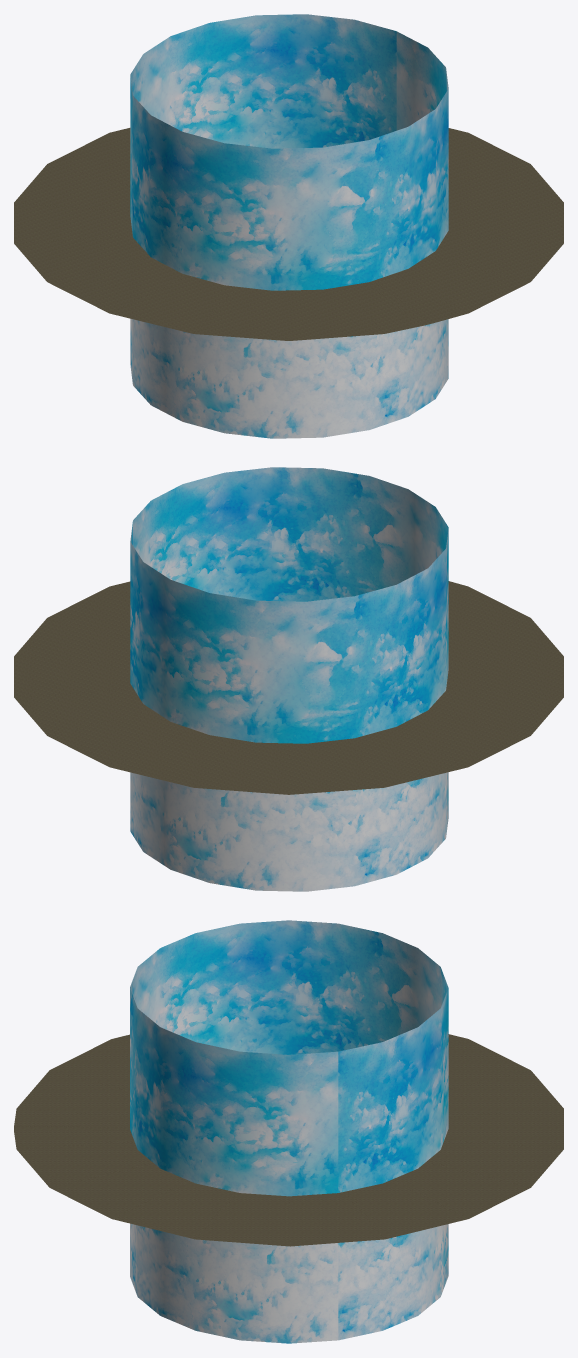
File: MDL_TutorialMap.fbx
The picture shows the model from 3 angles, top to bottom: view 1: azimuth 30°, elevation 25°; view 2: azimuth 150°, elevation 25°; view 3: azimuth 270°, elevation 25°; orthographic projection.
Visible parts, largest first — view 1: pCylinder1, main; view 2: pCylinder1, main; view 3: pCylinder1, main.
Boxes of the visible parts, bbox=[...] form: pCylinder1: bbox=[130, 14, 448, 438]; main: bbox=[14, 128, 563, 340]; pCylinder1: bbox=[130, 467, 448, 891]; main: bbox=[14, 581, 563, 794]; pCylinder1: bbox=[130, 920, 448, 1343]; main: bbox=[14, 1034, 563, 1246].
Size of the model in its own units: 379262 by 217352 by 375216.
2 materials, 2 textured.
